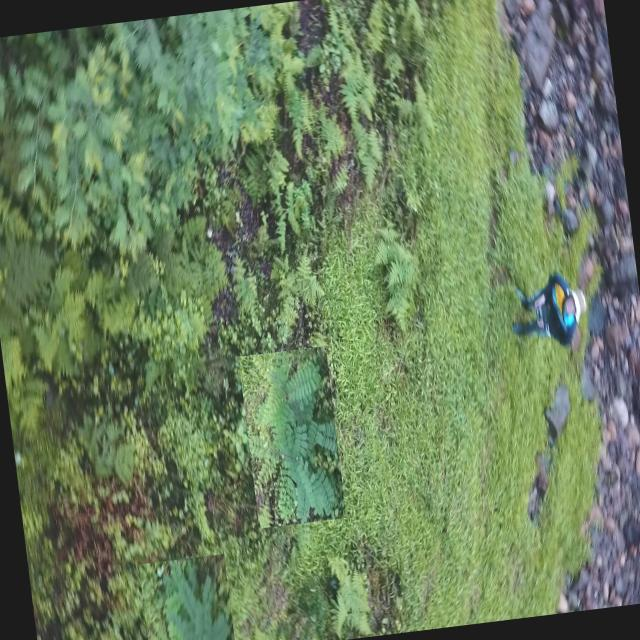Mysore-Thorn-Weed: (238, 346, 346, 528), (138, 553, 236, 640)
